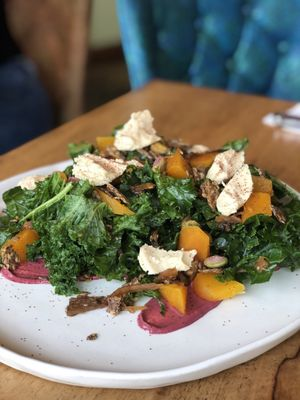pizza: (178, 225, 211, 260)
